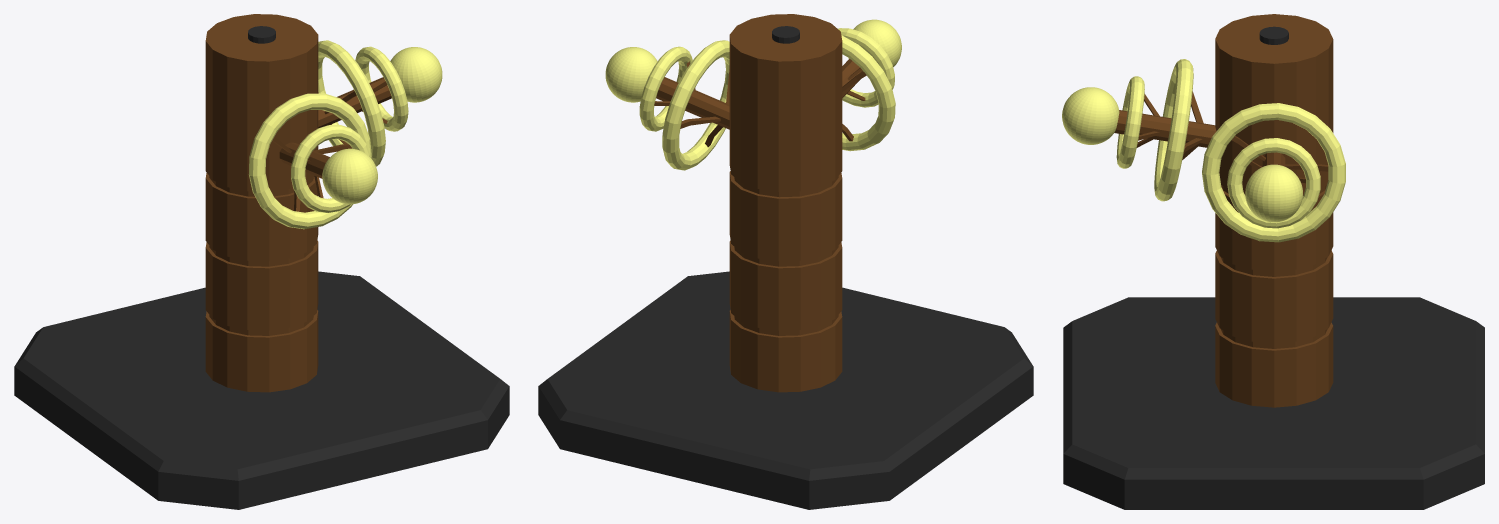
The model's file is reflectorIndividual.fbx.
3 renders of one model, left to right at view 1: azimuth 30°, elevation 25°; view 2: azimuth 150°, elevation 25°; view 3: azimuth 270°, elevation 25°, orthographic. The views are drawn at different scales.
Visible parts, largest first — view 1: base.001, baseCylider.001, cyliders1.006, cyliders1.007, Sphere.006, Sphere.007, extremo_3.001, extremo.003; view 2: base.001, baseCylider.001, cyliders1.007, cyliders1.006, Sphere.007, extremo.003, Sphere.006, extremo_3.001; view 3: base.001, baseCylider.001, cyliders1.007, cyliders1.006, Sphere.007, Sphere.006, extremo_3.001, extremo.003.
Part boxes in pixels (x1,y1,x2,y2): base.001: (14, 271, 509, 509); baseCylider.001: (205, 14, 318, 392); cyliders1.006: (248, 93, 371, 229); cyliders1.007: (318, 40, 408, 166); Sphere.006: (322, 148, 377, 204); Sphere.007: (390, 47, 442, 102); extremo_3.001: (272, 136, 351, 211); extremo.003: (318, 77, 391, 143); base.001: (538, 271, 1033, 509); baseCylider.001: (729, 14, 842, 392); cyliders1.007: (639, 40, 729, 170); cyliders1.006: (838, 28, 895, 151); Sphere.007: (605, 47, 657, 102); extremo.003: (654, 61, 729, 147); Sphere.006: (848, 19, 901, 66); extremo_3.001: (842, 57, 874, 141); base.001: (1063, 297, 1484, 509); baseCylider.001: (1215, 14, 1333, 407); cyliders1.007: (1202, 103, 1345, 242); cyliders1.006: (1116, 59, 1193, 201); Sphere.007: (1245, 164, 1302, 222); Sphere.006: (1062, 87, 1119, 144); extremo_3.001: (1114, 91, 1216, 159); extremo.003: (1232, 136, 1328, 183).
Size of the model in its own units: 201 by 203 by 201.
